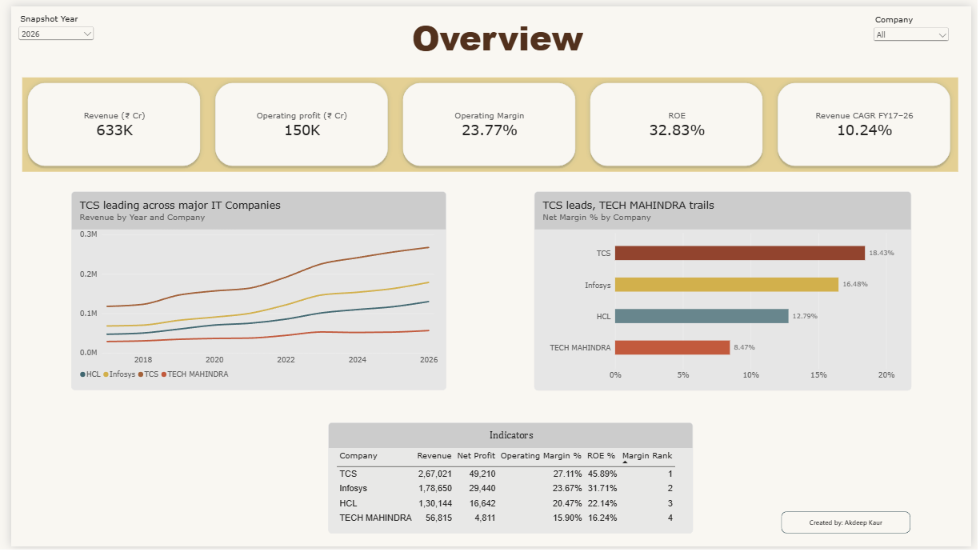

Layout of this report page (visuals, bound fields, positions):
{"tool":"powerbi","page":{"name":"Overview","canvas":[1920,1080],"ordinal":0},"visuals":[{"type":"slicer","fields":{"Values":["Dim_Year.Year"]},"box":[10.3,14.4,160.5,84.4],"z":0},{"type":"slicer","fields":{"Values":["Dim_Company.Company"]},"box":[1720,15,160.5,76.2],"z":1000},{"type":"cardVisual","fields":{"Data":["Measures (2).Revenue","Measures (2).Operating Profit","Measures (2).Operating Margin %","Measures (2).ROE %","Measures (2).Revenue CAGR %"]},"box":[22.5,142.5,1871.8,188.8],"z":2000},{"type":"lineChart","title":"TCS leading across major IT Companies","fields":{"Category":["Dim_Year.Year"],"Series":["Dim_Company.Company"],"Y":["Measures (2).Revenue"]},"box":[120,370,750,397.5],"z":3000},{"type":"barChart","title":"TCS leads, TECH MAHINDRA trails","fields":{"Category":["Dim_Company.Company"],"Y":["Measures (2).Net Margin %"]},"box":[1045,370,754.6,398.1],"z":4000},{"type":"tableEx","title":"Indicators","fields":{"Values":["Dim_Company.Company","Measures (2).Revenue","Measures (2).Net Profit","Measures (2).Operating Margin %","Measures (2).ROE %","Measures (2).Margin Rank"]},"box":[633.4,832.4,729.3,222.6],"z":5000},{"type":"actionButton","box":[700,0,545,125],"z":6000},{"type":"shape","box":[1539,1009.8,258.5,43.9],"z":6001}]}

Visuals, with their boxes in screenshot pixels (x1, y1, x2, y2), scaled from the page's 1920x1080 canvas onto the 978x550 screenshot:
slicer - Dim_Year.Year: [5, 7, 87, 50]
slicer - Dim_Company.Company: [876, 8, 958, 46]
cardVisual - Measures (2).Revenue x Measures (2).Operating Profit: [11, 73, 965, 169]
"TCS leading across major IT Companies" lineChart: [61, 188, 443, 391]
"TCS leads, TECH MAHINDRA trails" barChart: [532, 188, 917, 391]
"Indicators" tableEx: [323, 424, 694, 537]
actionButton: [357, 0, 634, 64]
shape: [784, 514, 916, 537]
